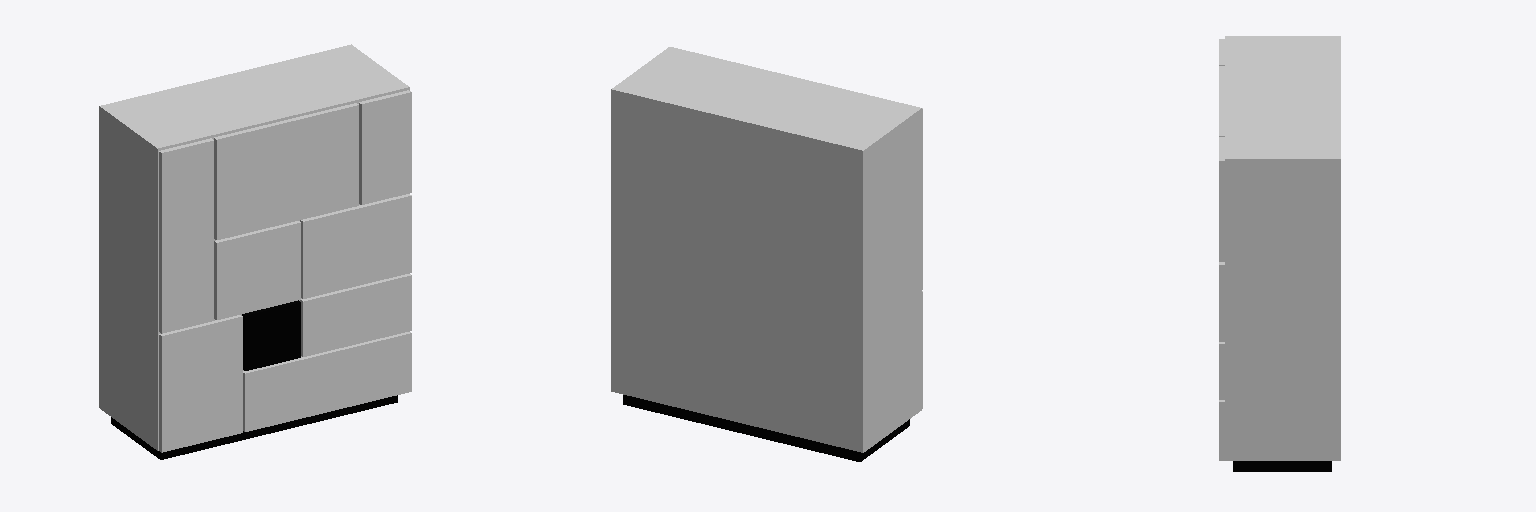
Rendered from whiteFurniture.obj.
3 renders of one model, left to right at view 1: azimuth 30°, elevation 25°; view 2: azimuth 150°, elevation 25°; view 3: azimuth 270°, elevation 25°, orthographic.
Visible parts, largest first — view 1: WhiteFurniture; view 2: WhiteFurniture; view 3: WhiteFurniture.
Boxes of the visible parts, box(x1,y1,x2,y2) form: WhiteFurniture: box(99, 44, 411, 459); WhiteFurniture: box(611, 47, 922, 461); WhiteFurniture: box(1219, 36, 1340, 471).
Size of the model in its own units: 100 by 120 by 42.04.